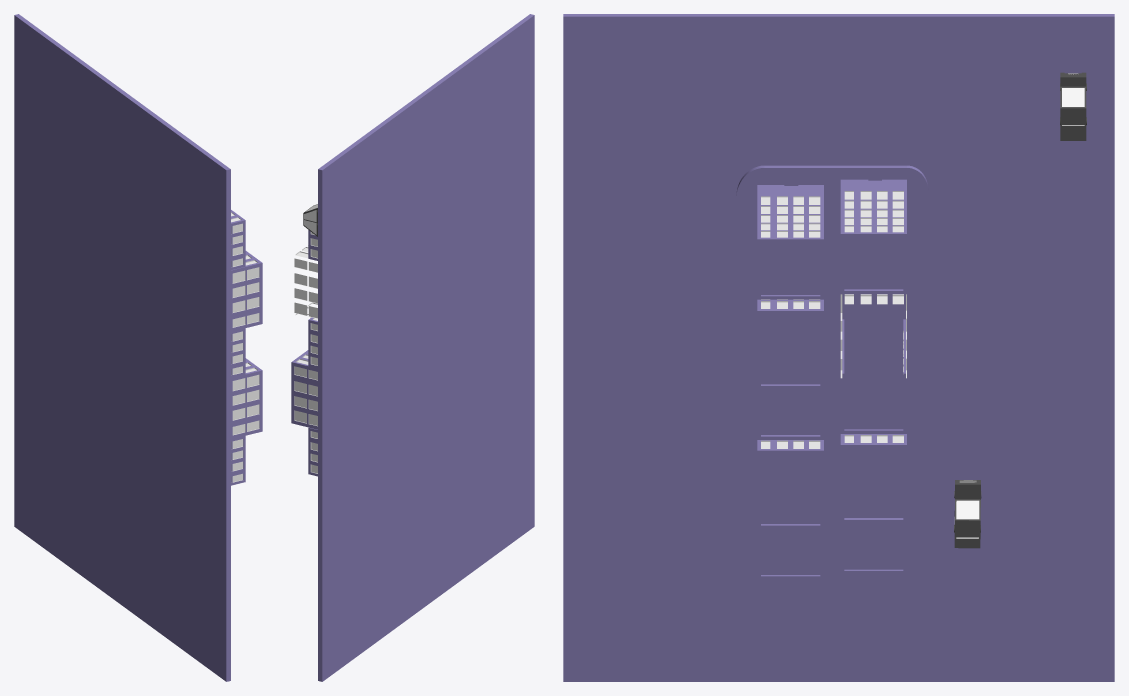
File: Animated_Low_Poly_City.glb
The picture shows the model from 3 angles, left to right: view 1: azimuth 30°, elevation 25°; view 2: azimuth 150°, elevation 25°; view 3: azimuth 270°, elevation 25°; orthographic projection. The views are drawn at different scales.
Visible parts, largest first — view 1: unnamed (×11); view 2: unnamed (×4); view 3: unnamed (×25).
Boxes of the visible parts, left/top/right/bottom form: unnamed (×11): left=14, top=14, right=262, bottom=681; unnamed (×4): left=291, top=14, right=534, bottom=681; unnamed (×25): left=563, top=14, right=1114, bottom=681.
Bounding box in the file's own units: 667 × 2942 × 2211.
